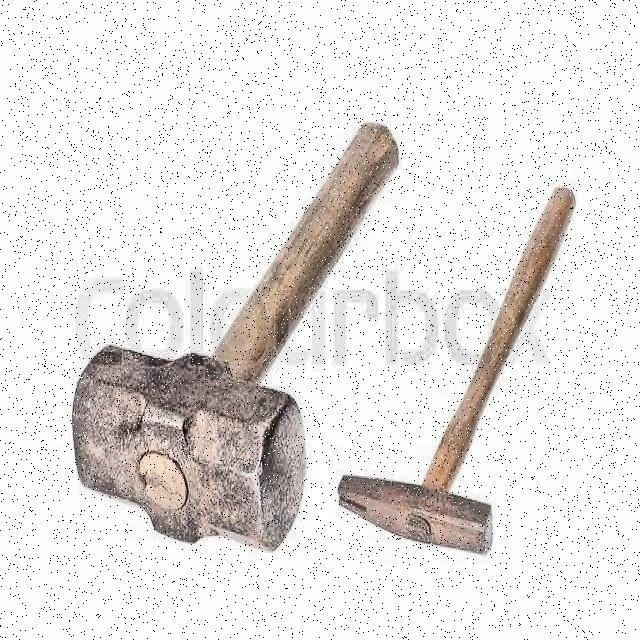hammer: (71, 121, 401, 555), (336, 188, 576, 557)
